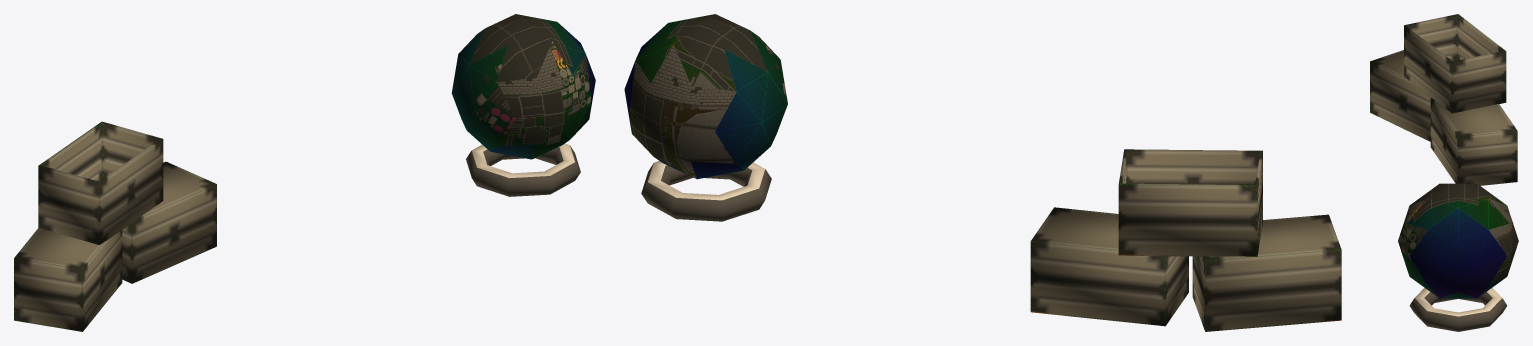
File: TableDecoration.fbx
3 renders of one model, left to right at view 1: azimuth 30°, elevation 25°; view 2: azimuth 150°, elevation 25°; view 3: azimuth 270°, elevation 25°, orthographic. The views are drawn at different scales.
Parts seen in each view (by area): view 1: Icosphere, Cofre.003, Cofre, Cofre.001, Torus; view 2: Icosphere, Cofre.003, Cofre.001, Cofre, Torus; view 3: Icosphere, Cofre.003, Cofre.001, Cofre, Torus.
Part boxes in pixels (<box>): Icosphere: <box>451,14,595,159</box>; Cofre.003: <box>38,121,163,244</box>; Cofre: <box>14,228,122,331</box>; Cofre.001: <box>122,161,216,283</box>; Torus: <box>466,143,580,196</box>; Icosphere: <box>624,14,787,179</box>; Cofre.003: <box>1118,149,1262,256</box>; Cofre.001: <box>1030,207,1188,326</box>; Cofre: <box>1192,214,1341,331</box>; Torus: <box>641,161,771,221</box>; Icosphere: <box>1398,183,1518,298</box>; Cofre.003: <box>1404,14,1506,113</box>; Cofre.001: <box>1430,97,1517,185</box>; Cofre: <box>1370,50,1430,141</box>; Torus: <box>1409,287,1507,331</box>.
Bounding box in the file's own units: 187 × 46.4 × 49.19.
